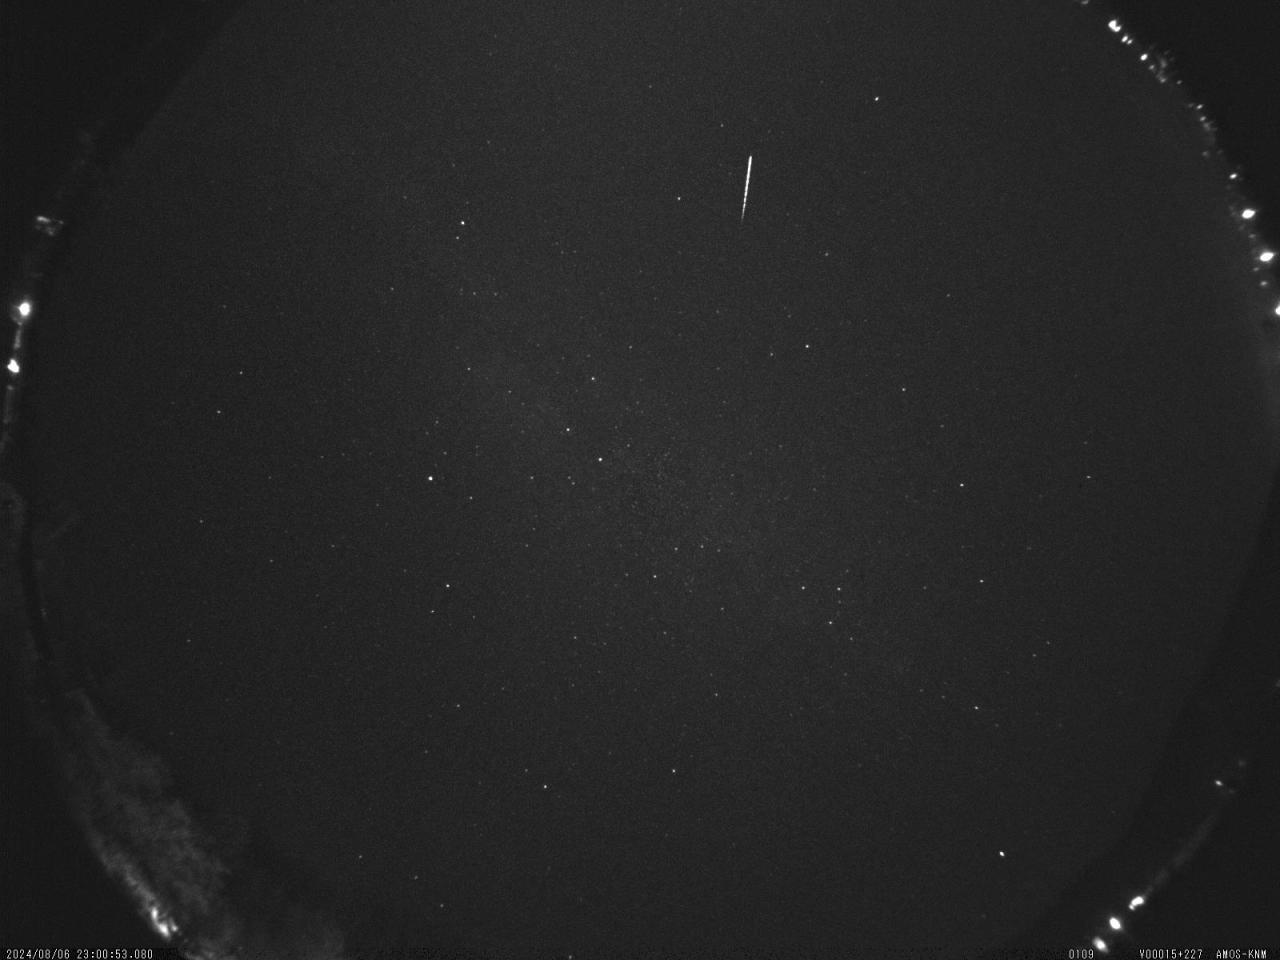Meteor: (736, 148, 754, 219)
